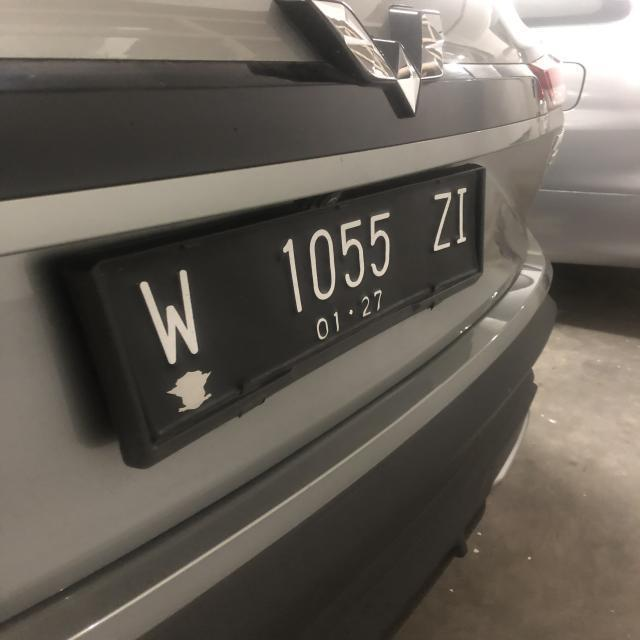0: (306, 222, 342, 304)
1: (280, 233, 304, 313)
5: (364, 210, 392, 283), (342, 218, 367, 294)
I: (454, 184, 471, 248)
W: (138, 264, 199, 368)
Z: (428, 190, 457, 252)
